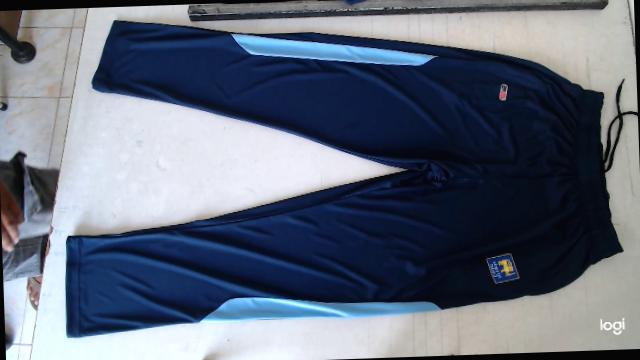new-garment: (65, 21, 623, 337)
